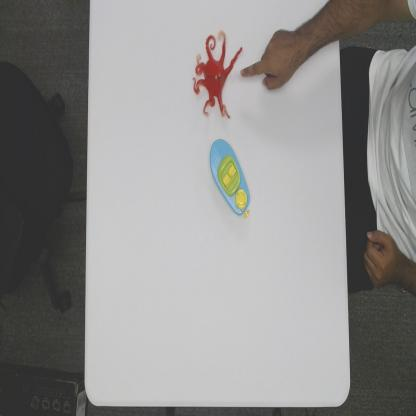Arm: (302, 2, 416, 68)
Boat: (209, 137, 252, 220)
Hand: (240, 28, 300, 92)
Octopus: (191, 28, 244, 120)
